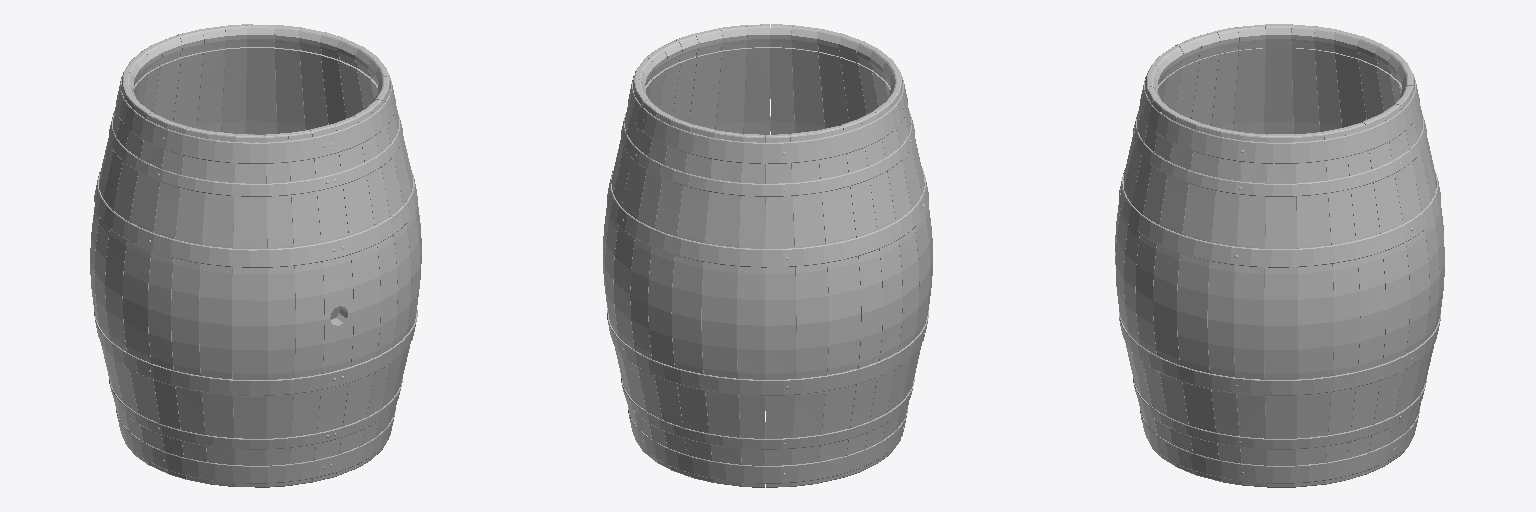
The model's file is barrel.obj.
The picture shows the model from 3 angles: view 1: azimuth 30°, elevation 25°; view 2: azimuth 150°, elevation 25°; view 3: azimuth 270°, elevation 25°; orthographic projection.
Visible parts, largest first — view 1: wine_barrel_01_Plane.006; view 2: wine_barrel_01_Plane.006; view 3: wine_barrel_01_Plane.006.
Part boxes in pixels (x1,y1,x2,y2): wine_barrel_01_Plane.006: (90,24,421,487); wine_barrel_01_Plane.006: (603,24,932,487); wine_barrel_01_Plane.006: (1115,24,1444,487).
Size of the model in its own units: 5.19 by 6.1 by 5.19.